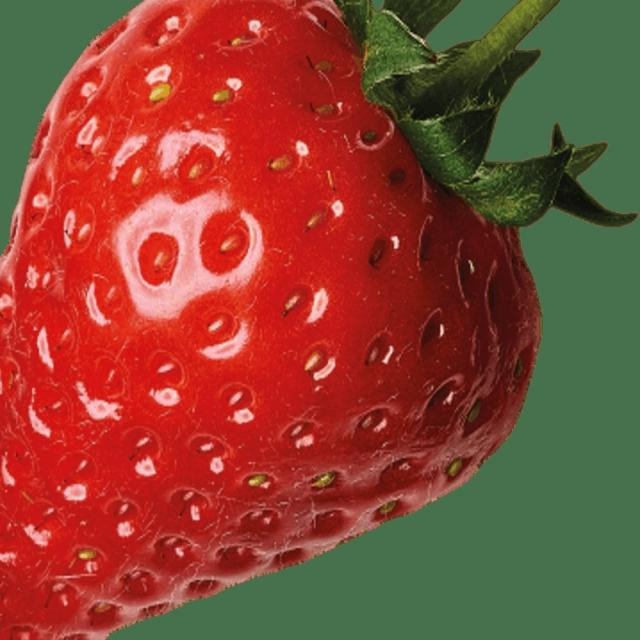strawberry: (0, 0, 603, 640)
